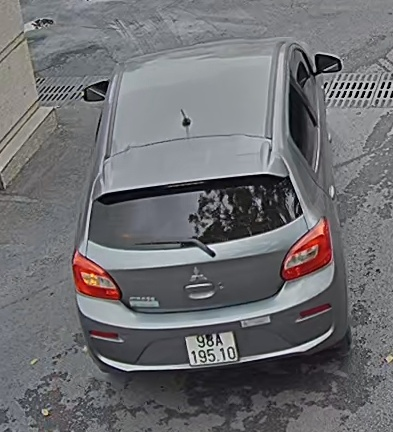vehicle plate: (179, 327, 240, 369)
